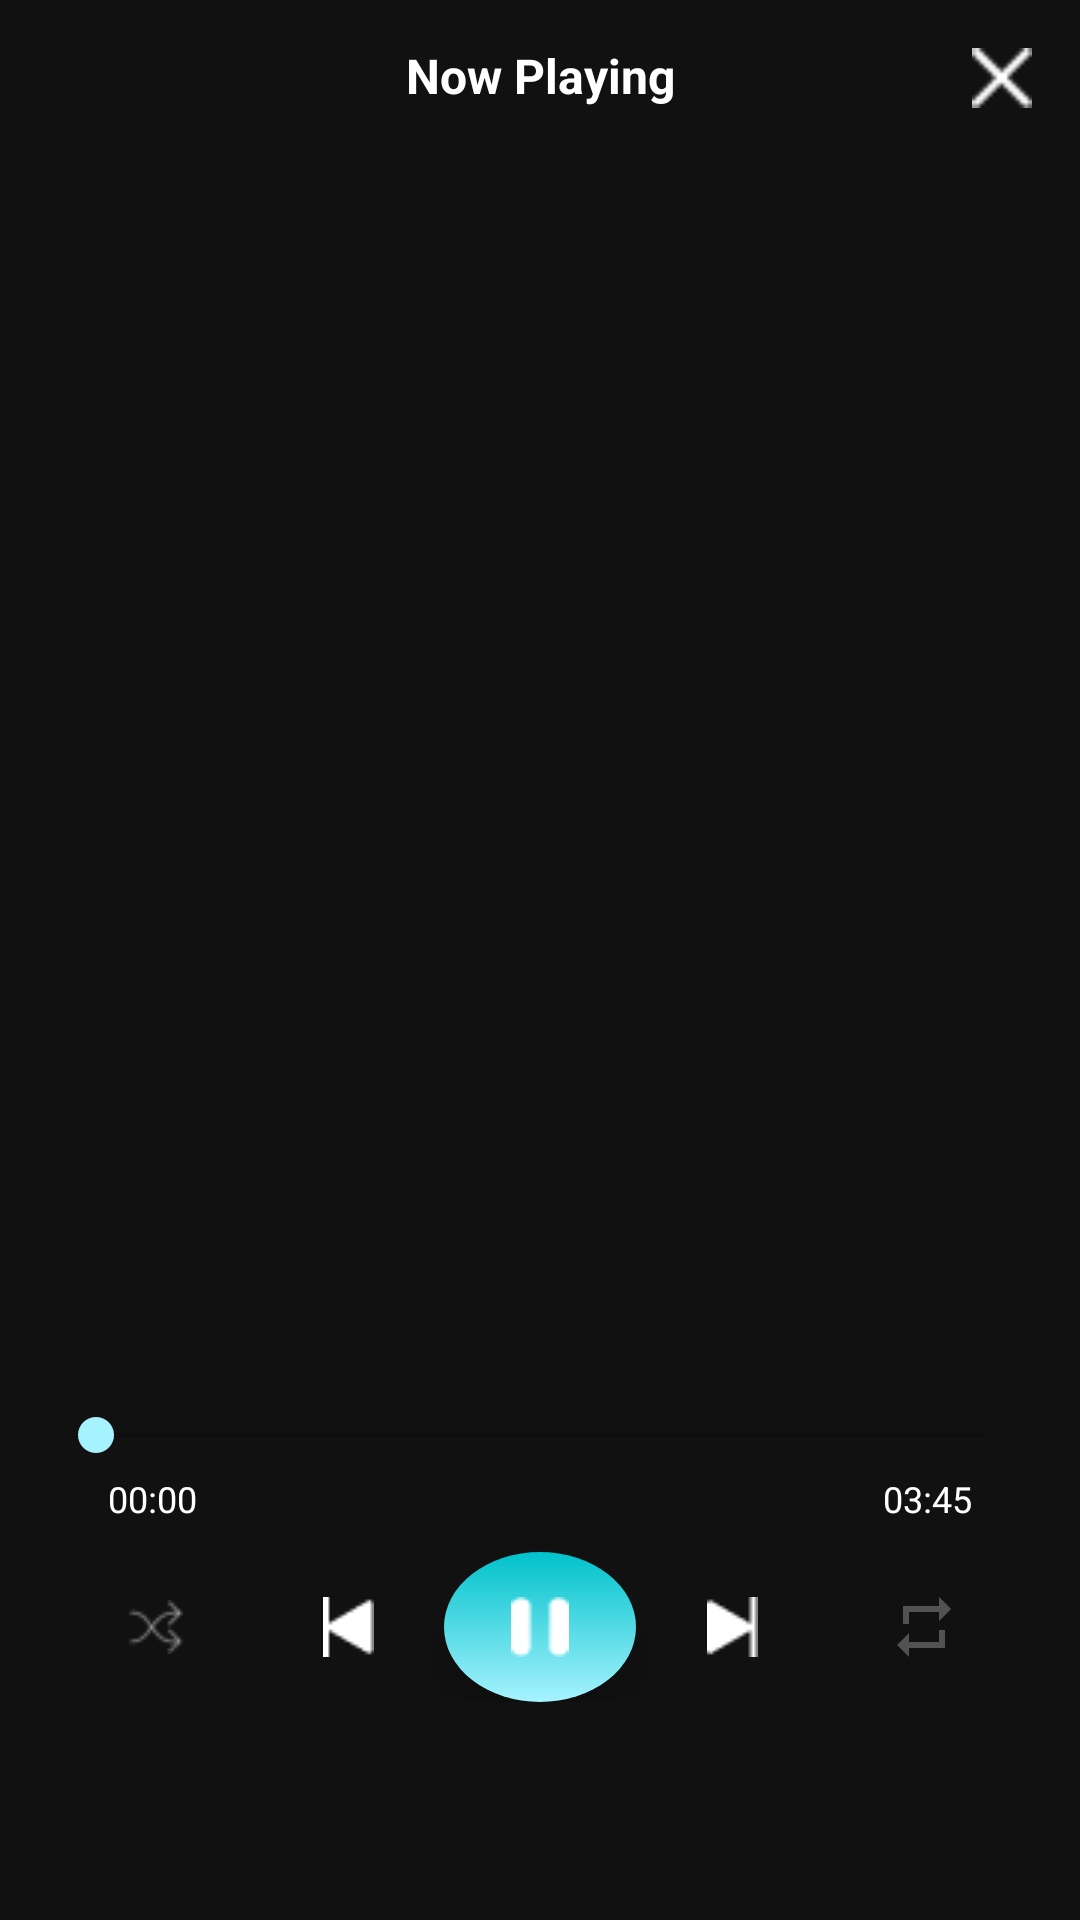

Named icons in this screenshot (1080 × 1920) and their bounding boxes, (x1, y1, x2, y2):
close: (972, 48, 1032, 108)
mix player: (129, 1600, 183, 1654)
next song: (707, 1597, 758, 1657)
previous song: (323, 1597, 374, 1657)
repeat: (897, 1597, 951, 1657)
